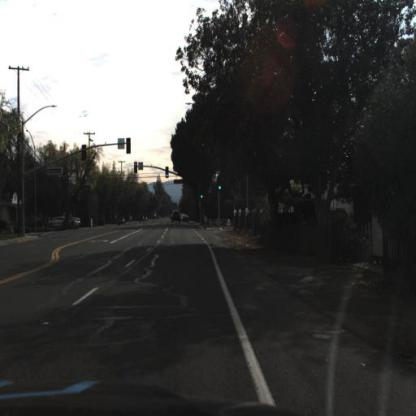trafficLight-Green: (216, 174, 224, 192), (164, 167, 170, 179), (198, 189, 204, 201)
trafficLight-RedLeft: (133, 159, 138, 173)
